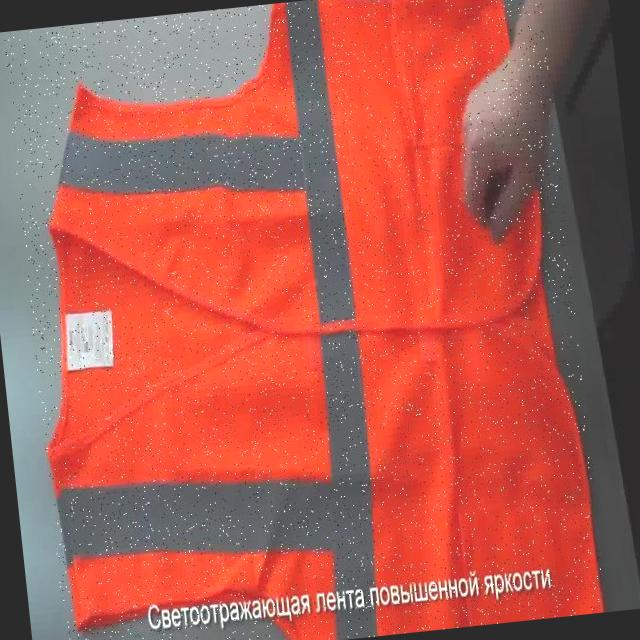vest: (1, 0, 606, 640)
